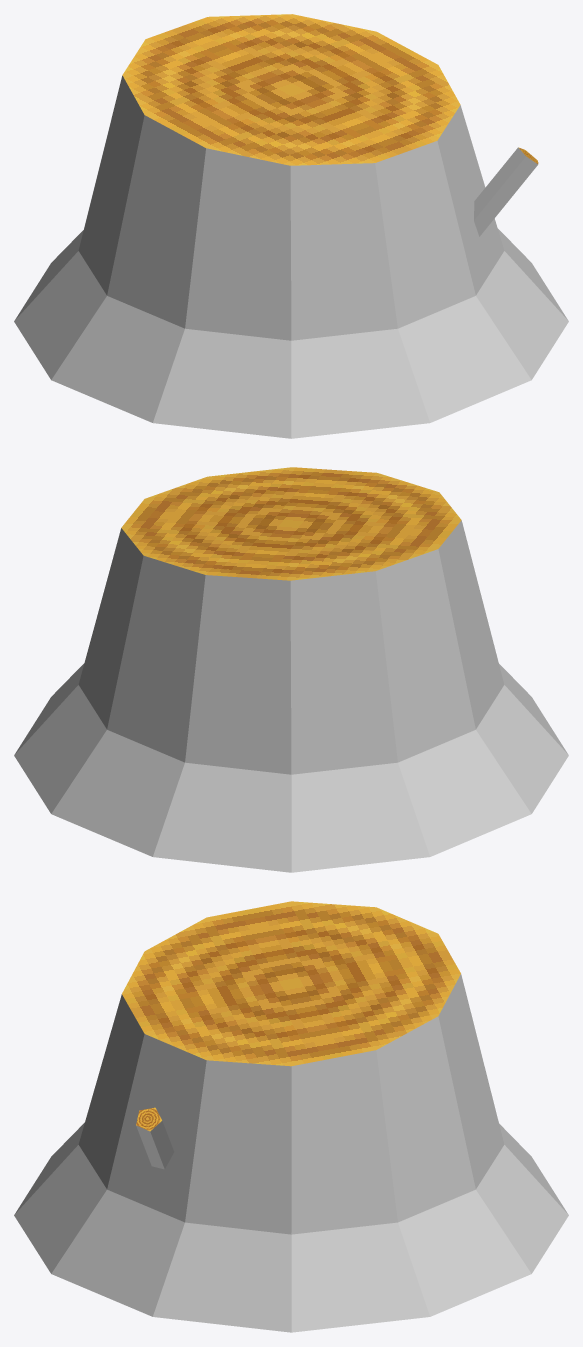
File: stump.fbx
3 renders of one model, top to bottom at view 1: azimuth 30°, elevation 25°; view 2: azimuth 150°, elevation 25°; view 3: azimuth 270°, elevation 25°, orthographic.
Parts seen in each view (by area): view 1: Stump, Branch; view 2: Stump; view 3: Stump, Branch.
Part boxes in pixels (box(x1,y1,x2,y2)): Stump: box(14, 14, 568, 438); Branch: box(474, 147, 538, 236); Stump: box(14, 467, 568, 872); Stump: box(14, 901, 568, 1332); Branch: box(136, 1107, 174, 1169).
Size of the model in its own units: 1261 by 618 by 1261.
